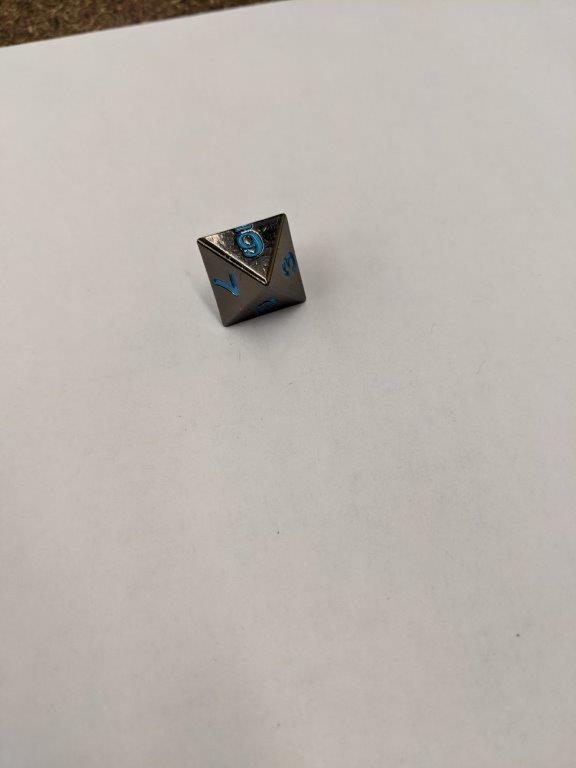d8-6: (195, 212, 308, 330)
